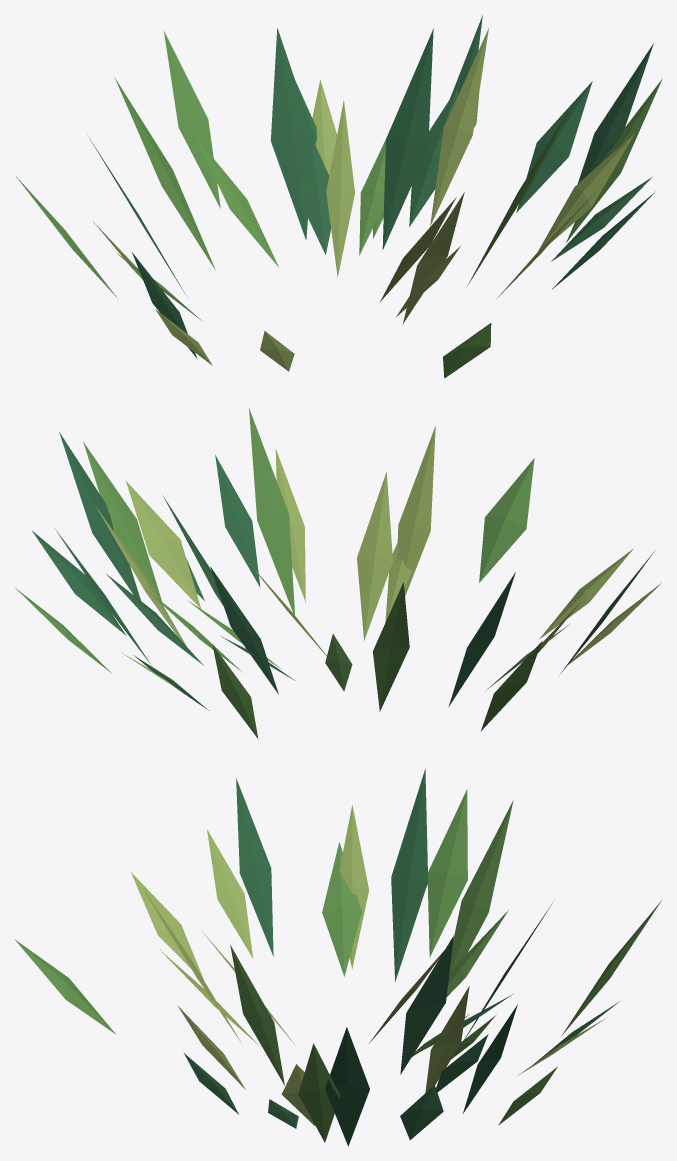
Rendered from grass_clump_low.glb.
3 renders of one model, top to bottom at view 1: azimuth 30°, elevation 25°; view 2: azimuth 150°, elevation 25°; view 3: azimuth 270°, elevation 25°, orthographic. The views are drawn at different scales.
Visible parts, largest first — view 1: grass_clump_low; view 2: grass_clump_low; view 3: grass_clump_low.
Part boxes in pixels (x1,y1,x2,y2): grass_clump_low: (16,15,662,378); grass_clump_low: (14,408,661,738); grass_clump_low: (14,769,662,1146).
Bounding box in the file's own units: 2.2 × 0.6719 × 2.21.
